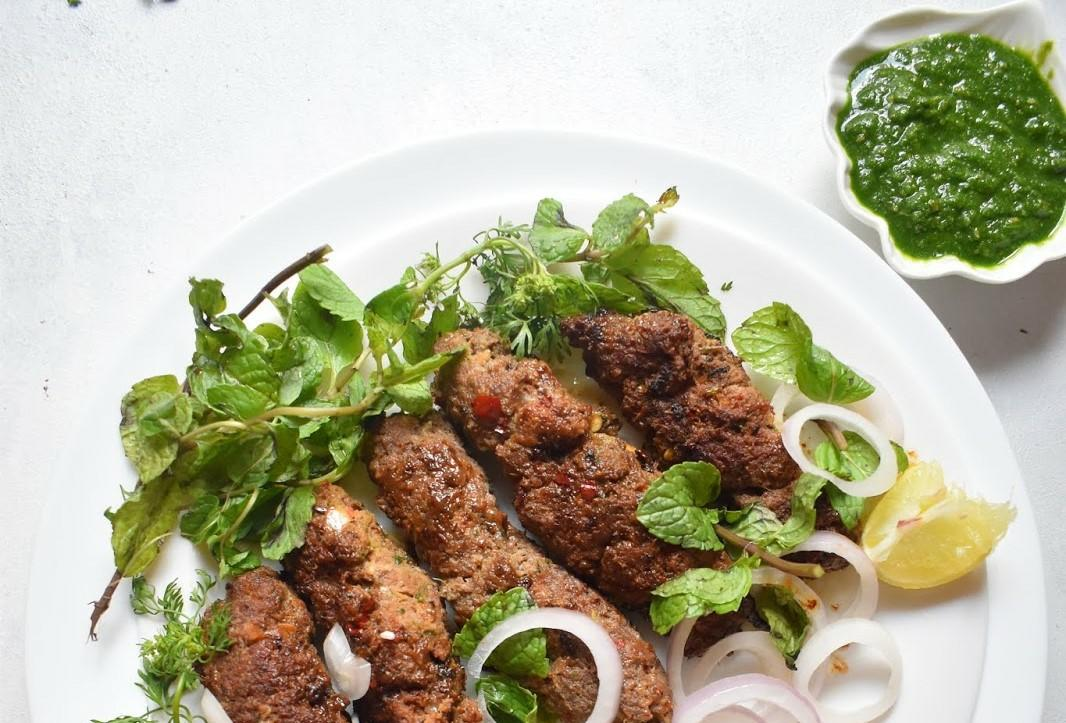GreenChutney: (837, 35, 1066, 266)
Kebab: (432, 327, 737, 612), (561, 311, 854, 573), (281, 485, 483, 723), (443, 522, 671, 723), (372, 411, 563, 585), (192, 566, 348, 723)
